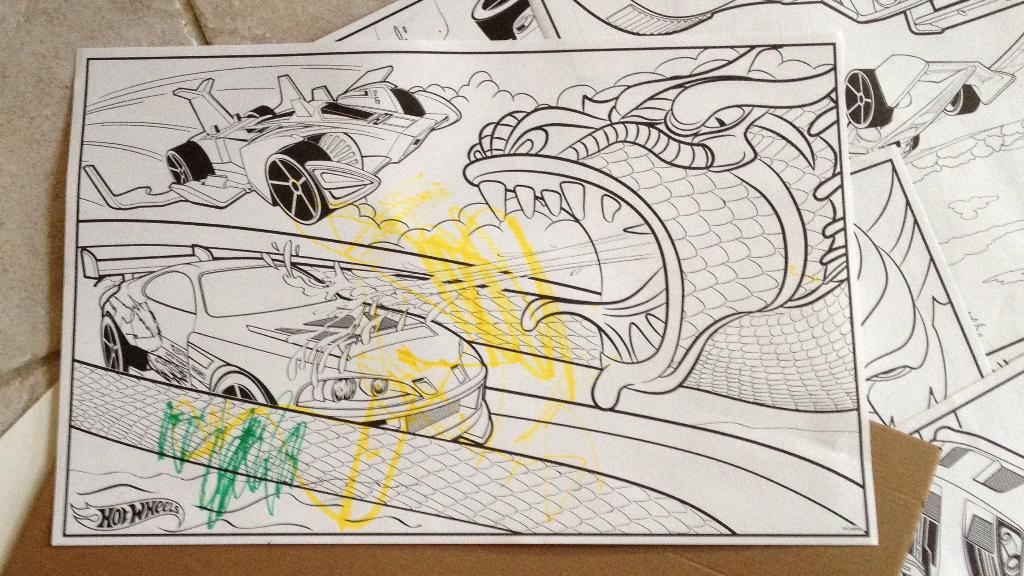cars: (81, 249, 494, 444), (81, 73, 461, 224), (842, 48, 1012, 153)
